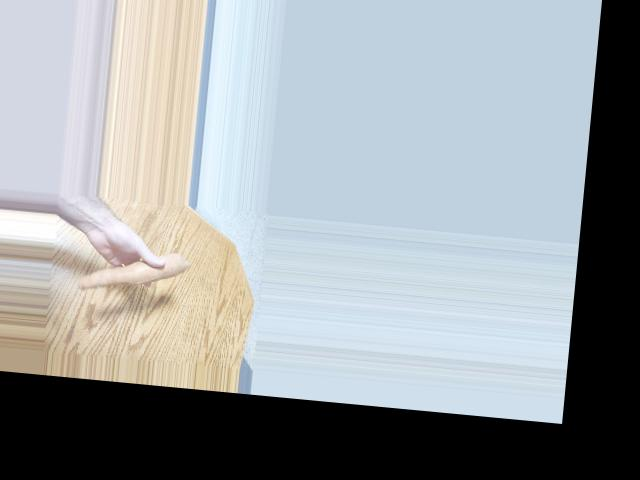sweet_potato: (72, 250, 187, 290)
